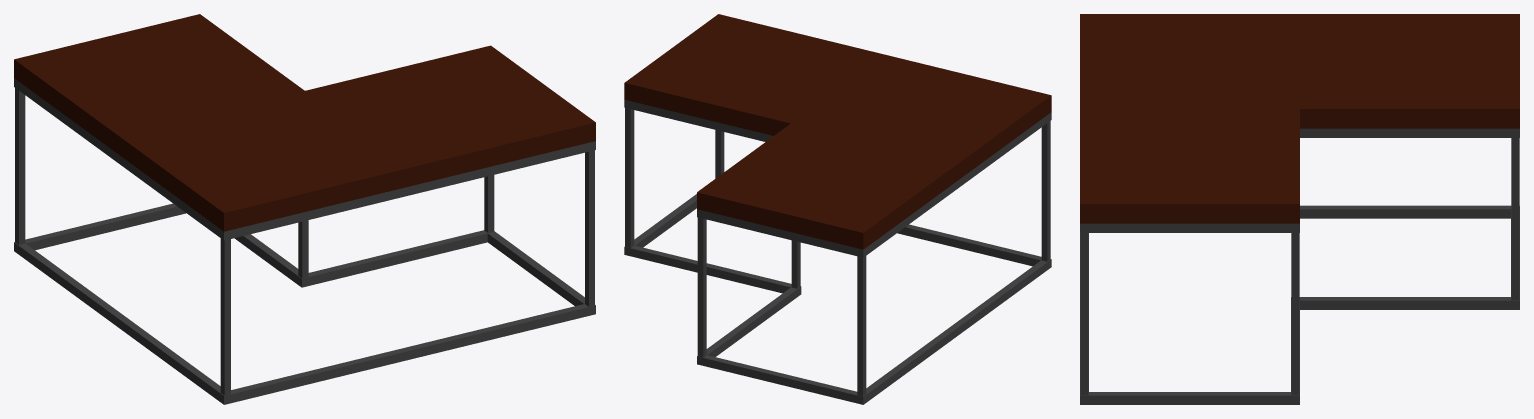
The model's file is Coffee table.FBX.
The picture shows the model from 3 angles, left to right: view 1: azimuth 30°, elevation 25°; view 2: azimuth 150°, elevation 25°; view 3: azimuth 270°, elevation 25°; orthographic projection. The views are drawn at different scales.
Parts seen in each view (by area): view 1: Plane001; view 2: Plane001; view 3: Plane001.
Boxes of the visible parts, bbox=[...] form: Plane001: bbox=[14, 14, 595, 404]; Plane001: bbox=[624, 14, 1051, 404]; Plane001: bbox=[1080, 14, 1519, 404].
Bounding box in the file's own units: 94.04 × 46.39 × 92.02.
